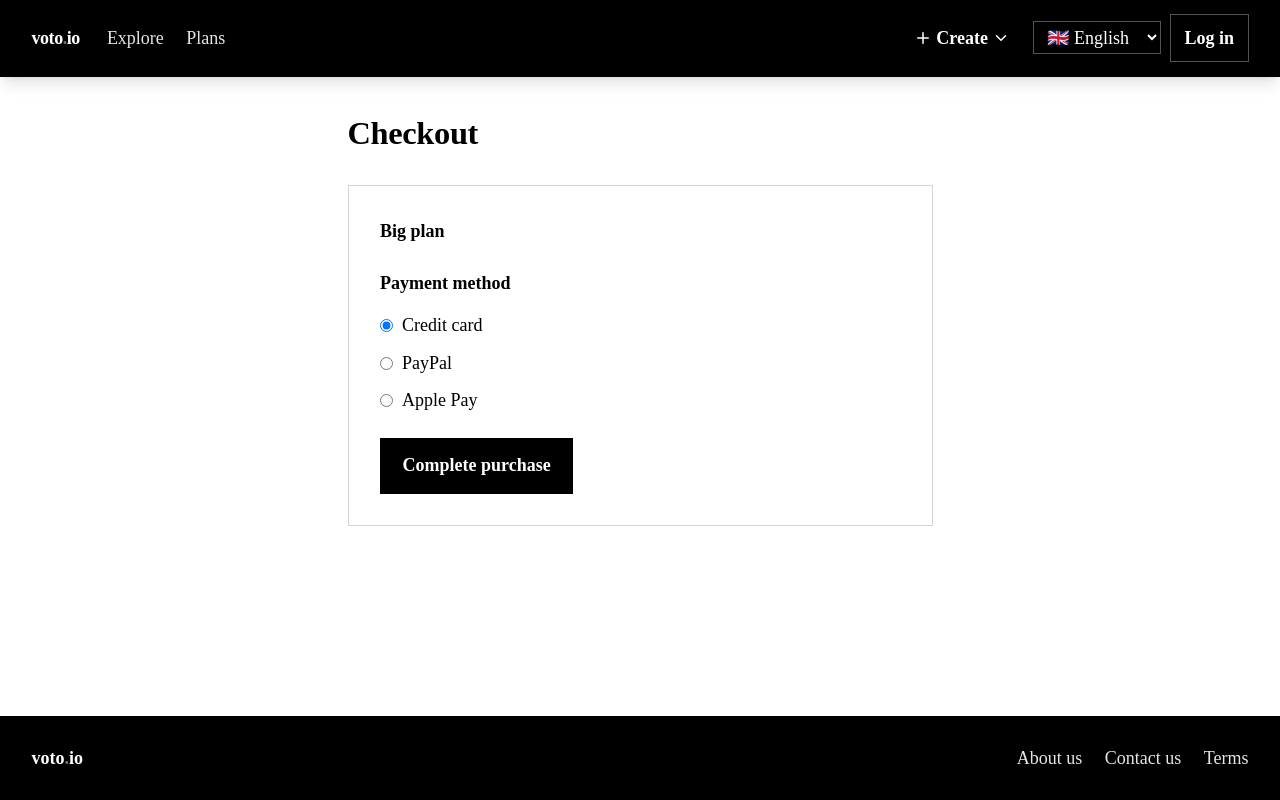
Home › returns to the selected subscription after checkout
Expected: the text "Big plan" is shown, [380,221,444,241]
Click the button "Complete purchase" at coordinates (477, 466), box [380,438,573,494]
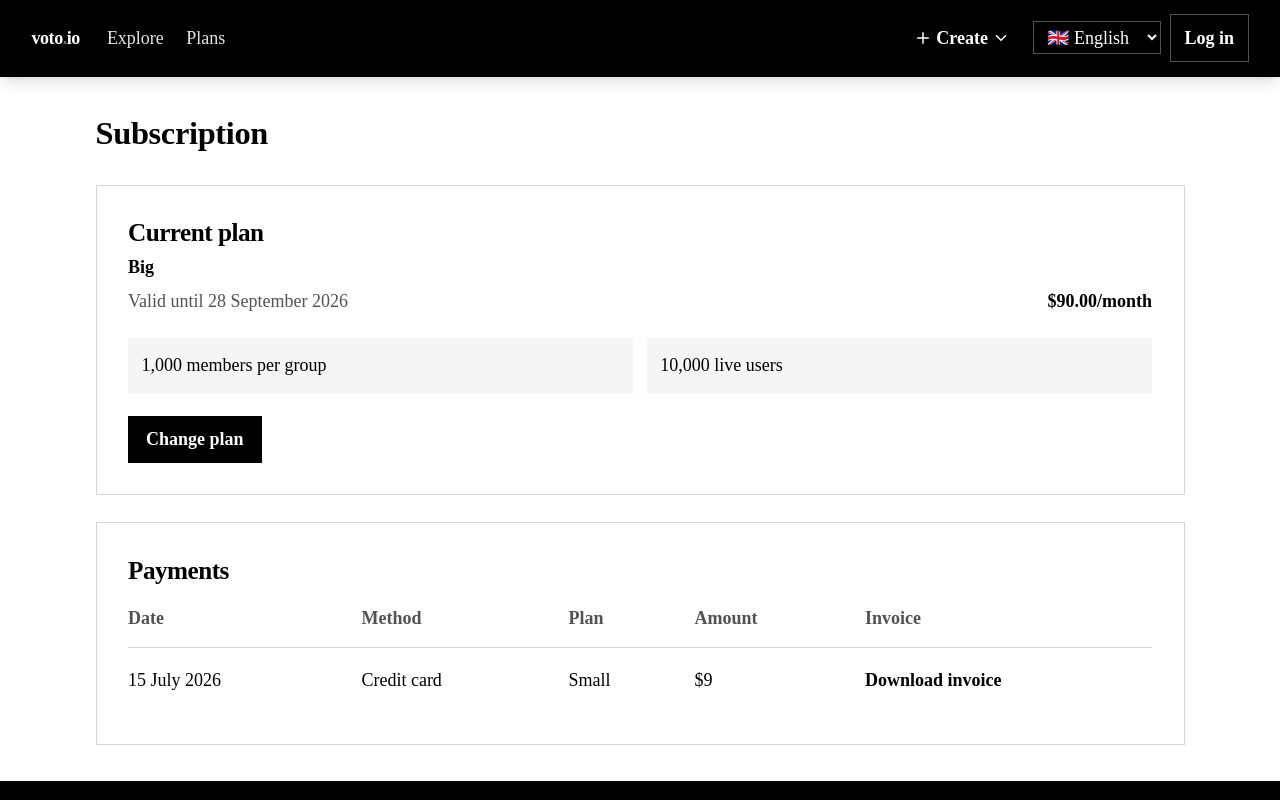
Expected: the heading "Subscription" is shown, [96,115,268,151]
Expected: the text "Valid until 28 September 2026" is shown, [128,287,348,315]
